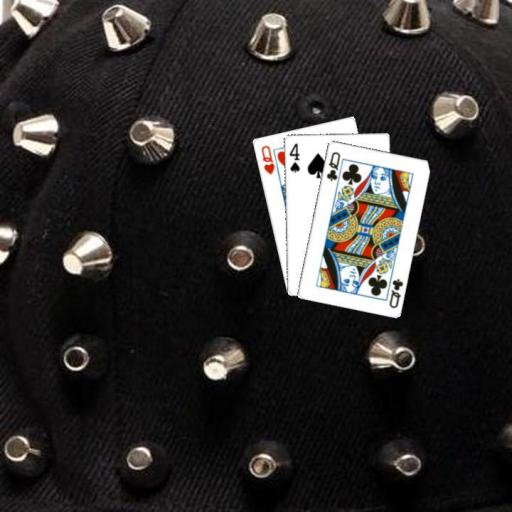4S: (286, 140, 301, 174)
QC: (386, 276, 405, 310), (323, 149, 341, 182)
QH: (258, 142, 276, 176)
